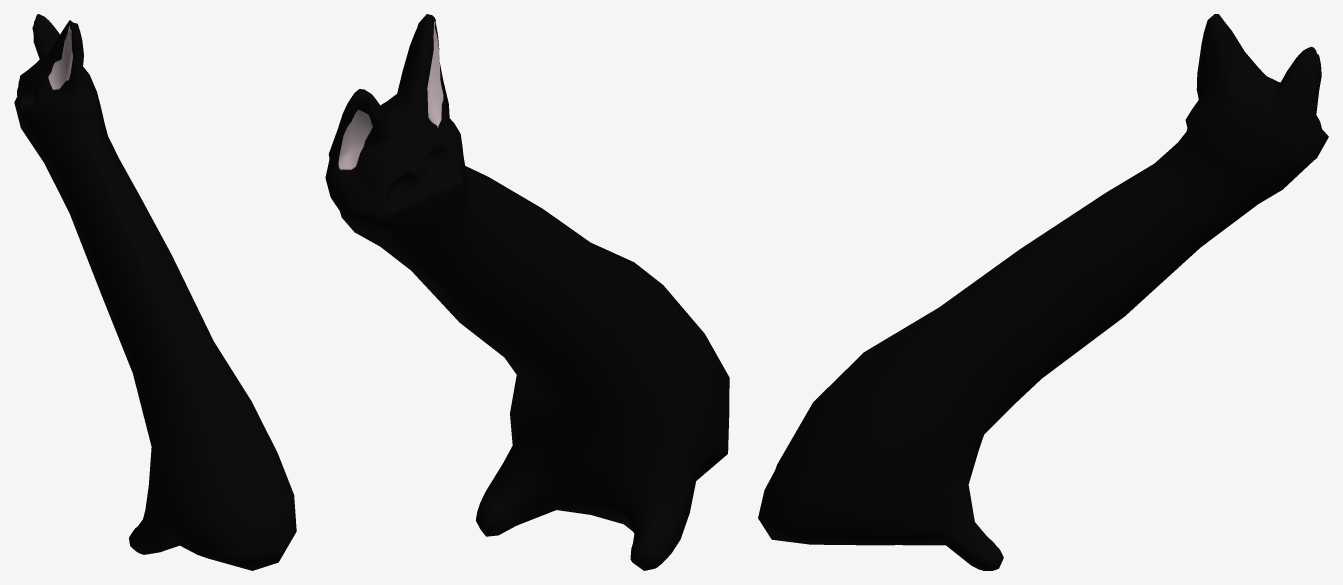
The model's file is CatmemeBody.fbx.
3 renders of one model, left to right at view 1: azimuth 30°, elevation 25°; view 2: azimuth 150°, elevation 25°; view 3: azimuth 270°, elevation 25°, orthographic. The views are drawn at different scales.
Visible parts, largest first — view 1: polySurface1; view 2: polySurface1; view 3: polySurface1.
Boxes of the visible parts, x1=… form: polySurface1: x1=14, y1=14, x2=296, y2=570; polySurface1: x1=325, y1=14, x2=729, y2=570; polySurface1: x1=758, y1=14, x2=1328, y2=570.
Bounding box in the file's own units: 0.5293 × 1.99 × 1.9.
